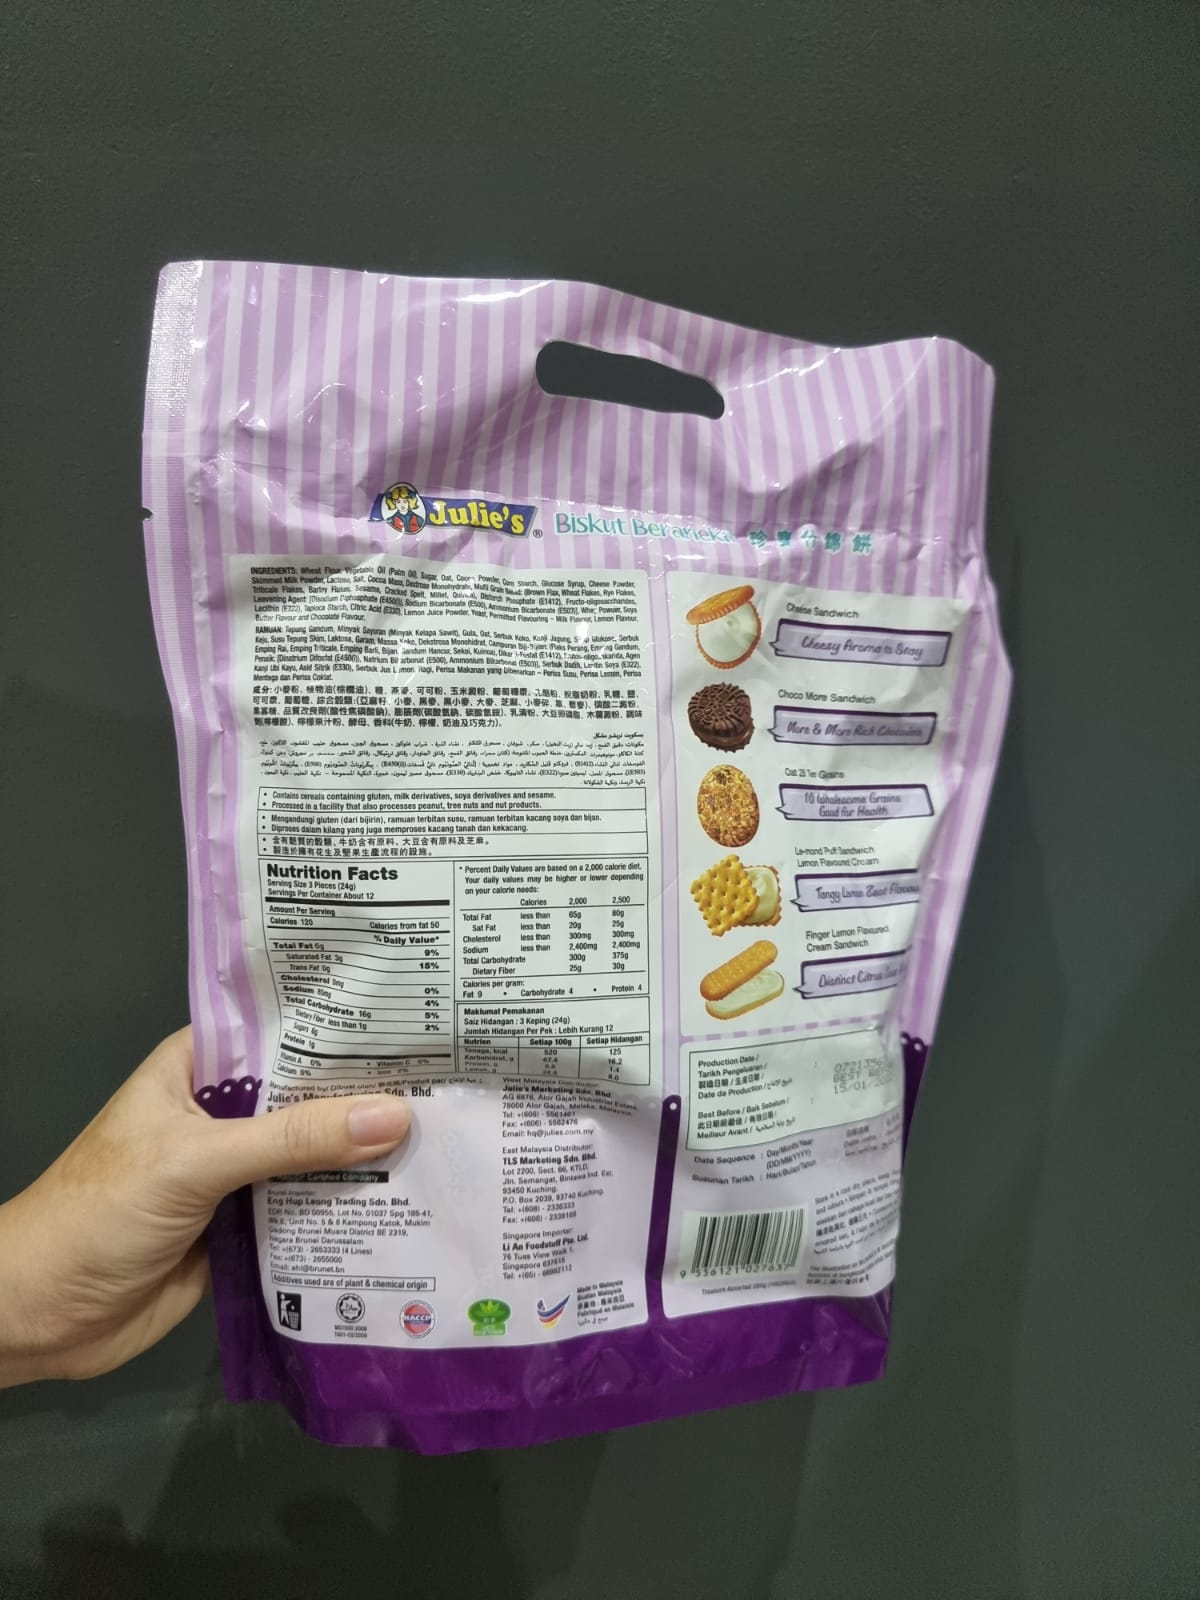Biscuits: (224, 471, 919, 1340)
